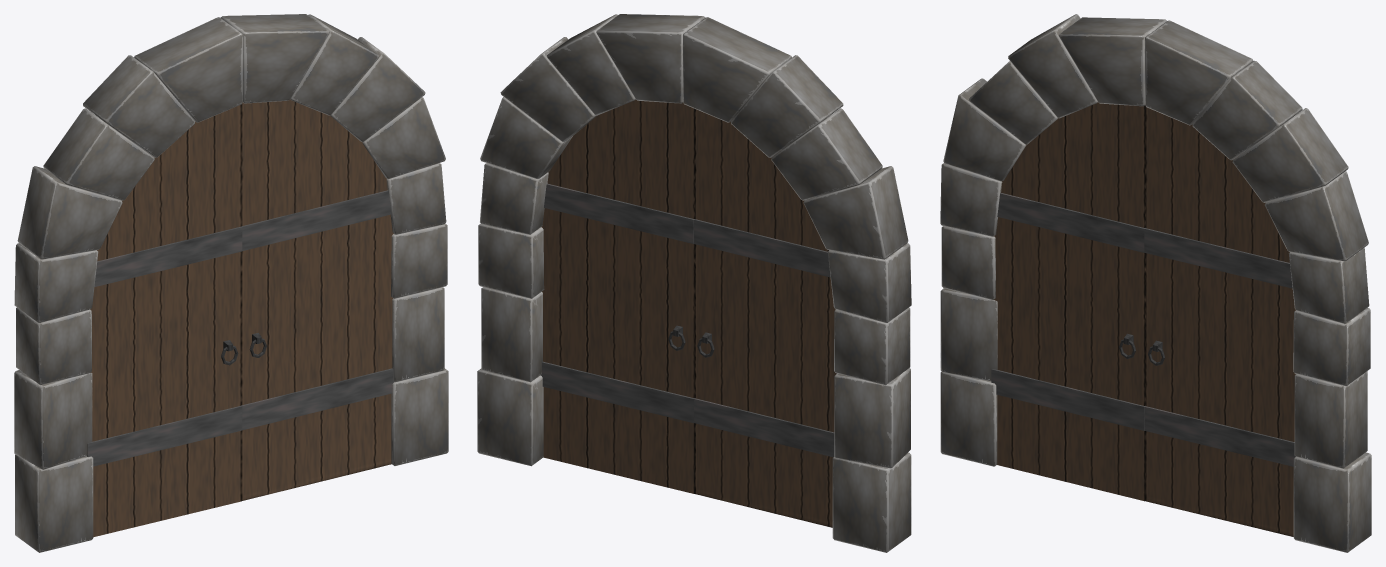
The model's file is door 2.fbx.
3 views of the same model, side by side, from view 1: azimuth 30°, elevation 25°; view 2: azimuth 150°, elevation 25°; view 3: azimuth 330°, elevation 25° (orthographic).
Visible parts, largest first — view 1: Pota_1.002, Door_3, Door_3.001; view 2: Pota_1.002, Door_3, Door_3.001; view 3: Pota_1.002, Door_3.001, Door_3.
Boxes of the visible parts, x1,y1,x2,y2 form: Pota_1.002: (14,14,448,552); Door_3: (241,99,394,501); Door_3.001: (87,105,242,537); Pota_1.002: (477,14,911,552); Door_3: (540,99,694,493); Door_3.001: (694,109,836,527); Pota_1.002: (940,14,1371,552); Door_3.001: (991,102,1145,501); Door_3: (1144,106,1295,536).
Bounding box in the file's own units: 453 × 492 × 53.69.
